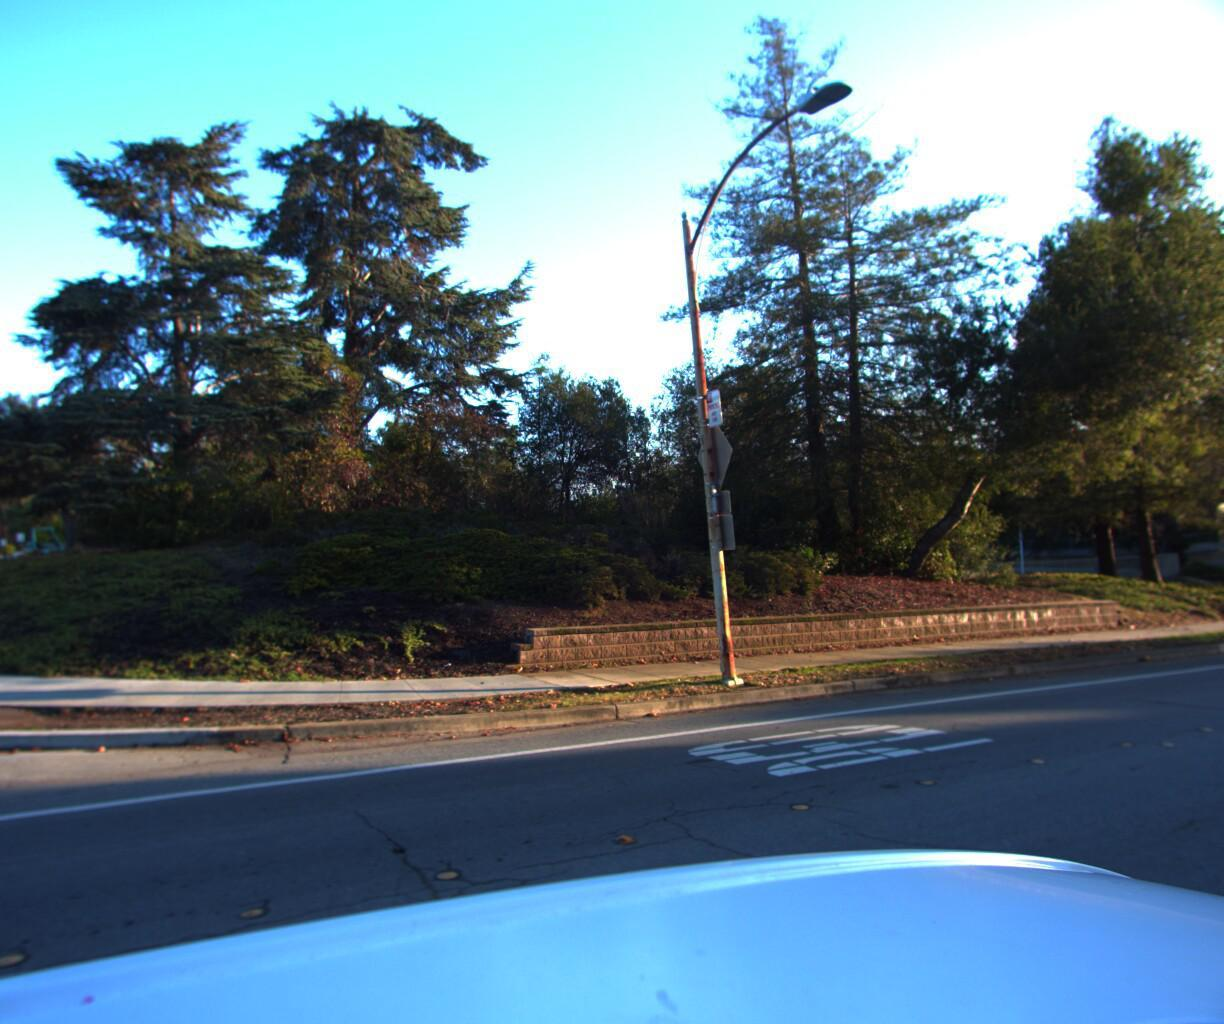other_vehicle: (19, 527, 75, 568)
